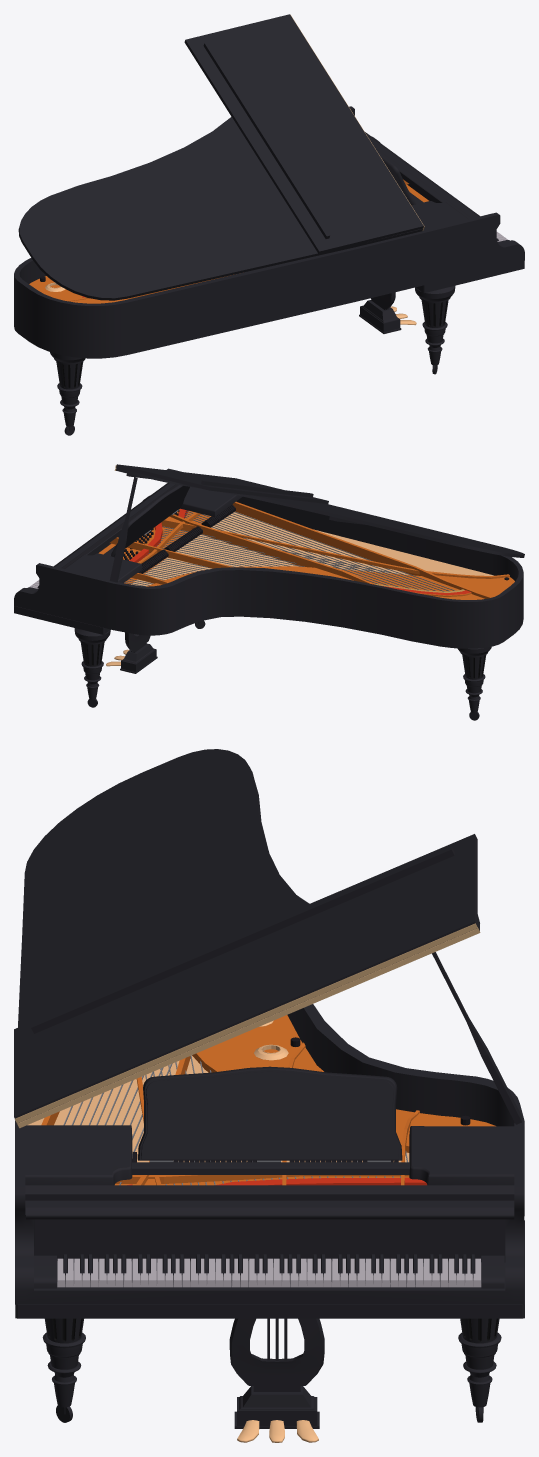
Rendered from 1PianoAssets.fbx.
3 renders of one model, top to bottom at view 1: azimuth 30°, elevation 25°; view 2: azimuth 150°, elevation 25°; view 3: azimuth 270°, elevation 25°, orthographic. The views are drawn at different scales.
Visible parts, largest first — view 1: Cube.011_115, Cube.003_65, Cube.009_69, Cube_75, Cylinder_86, Cylinder.009_94, Cube.010_73, Cube.002_103, Cube.014_71; view 2: Cube.003_65, Cube.016_118, Cube.011_115, Cube.026_123, Cube.002_103, Cube.009_69, Cube.006_105, Cube.017_107, Cube.001_68, Cylinder_86, Cube.012_106, Cube.055_113 (+11 smaller); view 3: Cube.011_115, Cube.003_65, Cube.001_68, Cube.009_69, Cube.048_76, Cube_75, Cube.014_71, Cube.010_73, Cube.021_116, Cube.002_103, Cube.007_66, Cube.101_77 (+13 smaller).
Boxes of the visible parts, x1,y1,x2,y2 form: Cube.011_115: (18,14,423,300); Cube.003_65: (14,106,524,358); Cube.009_69: (411,201,468,230); Cube_75: (365,132,479,218); Cylinder_86: (56,361,83,426); Cylinder.009_94: (421,300,448,365); Cube.010_73: (416,261,524,292); Cube.002_103: (29,184,428,303); Cube.014_71: (374,147,471,218); Cube.003_65: (14,468,523,648); Cube.016_118: (131,512,493,586); Cube.011_115: (116,464,524,557); Cube.026_123: (124,510,454,591); Cube.002_103: (98,509,514,599); Cube.009_69: (65,487,242,582); Cube.006_105: (232,501,492,598); Cube.017_107: (169,514,375,584); Cube.001_68: (111,485,189,556); Cylinder_86: (80,642,486,712); Cube.012_106: (161,519,509,578); Cube.055_113: (138,504,235,573); Cube.011_115: (14,749,479,1126); Cube.003_65: (15,950,524,1304); Cube.001_68: (138,1066,402,1160); Cube.009_69: (25,1125,514,1185); Cube.048_76: (57,1258,481,1287); Cube_75: (26,1200,514,1219); Cube.014_71: (25,1185,514,1200); Cube.010_73: (15,1220,524,1318); Cube.021_116: (14,923,480,1128); Cube.002_103: (115,1015,495,1185); Cube.007_66: (229,1318,324,1385); Cube.101_77: (63,1254,475,1275).
Bounding box in the file's own units: 680 × 398 × 385.
